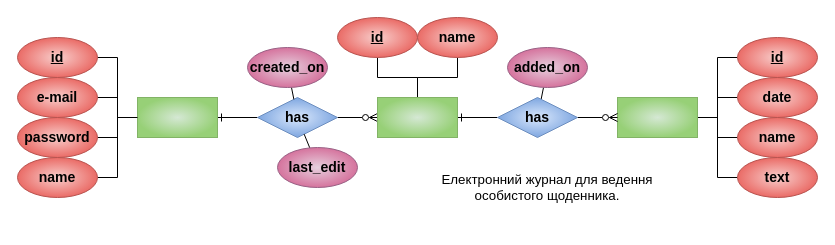
Some shapes in this 835 by 245 pixel diagram are drawn without their labels. Each missing label, with the centre of its shape:
"account" goes at point (177, 117).
"journal" goes at point (417, 117).
"note" goes at point (657, 117).
